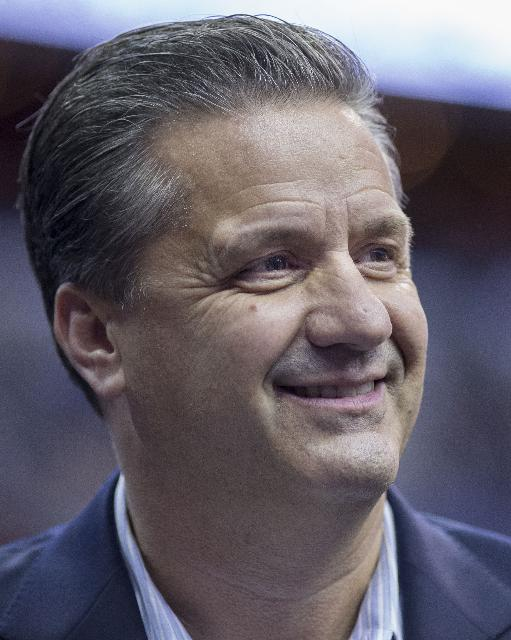crows_feet: (192, 262, 236, 306)
forehead: (256, 189, 316, 213), (352, 179, 396, 203)
gummy_smile: (261, 321, 301, 375), (385, 328, 413, 374)
